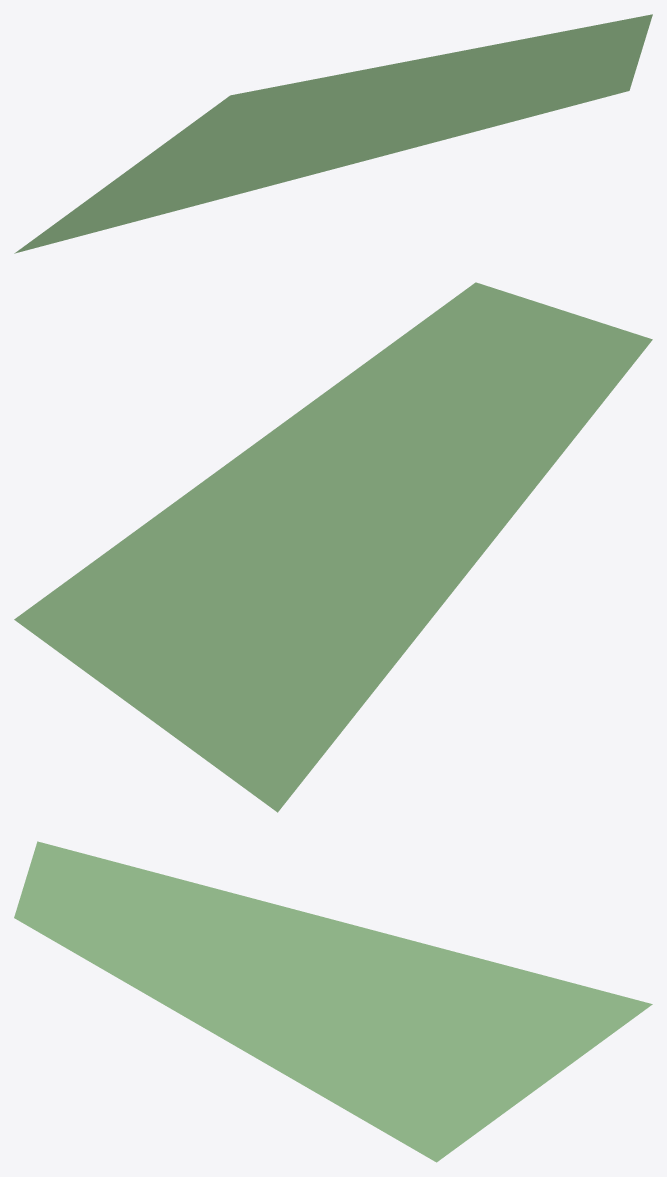
The model's file is R.BridgeEdge.D1.B0.P0.O_D1.O_BE0.0.fbx.
3 renders of one model, top to bottom at view 1: azimuth 90°, elevation 25°; view 2: azimuth 150°, elevation 25°; view 3: azimuth 270°, elevation 25°, orthographic. The views are drawn at different scales.
Visible parts, largest first — view 1: R.BridgeEdge.D1.B0.P0.O_D1.O_BE0.0; view 2: R.BridgeEdge.D1.B0.P0.O_D1.O_BE0.0; view 3: R.BridgeEdge.D1.B0.P0.O_D1.O_BE0.0.
Boxes of the visible parts, left/top/right/bottom form: R.BridgeEdge.D1.B0.P0.O_D1.O_BE0.0: left=14, top=14, right=652, bottom=253; R.BridgeEdge.D1.B0.P0.O_D1.O_BE0.0: left=14, top=282, right=652, bottom=812; R.BridgeEdge.D1.B0.P0.O_D1.O_BE0.0: left=14, top=841, right=652, bottom=1162.
Bounding box in the file's own units: 0.2085 × 0.3556 × 0.1.
